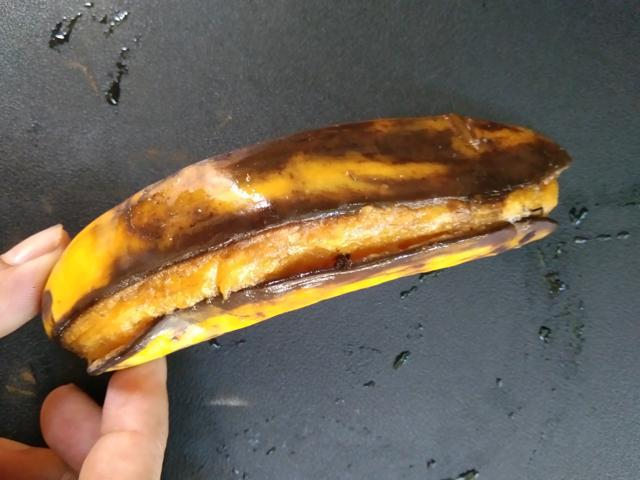rotten: (36, 84, 590, 417)
